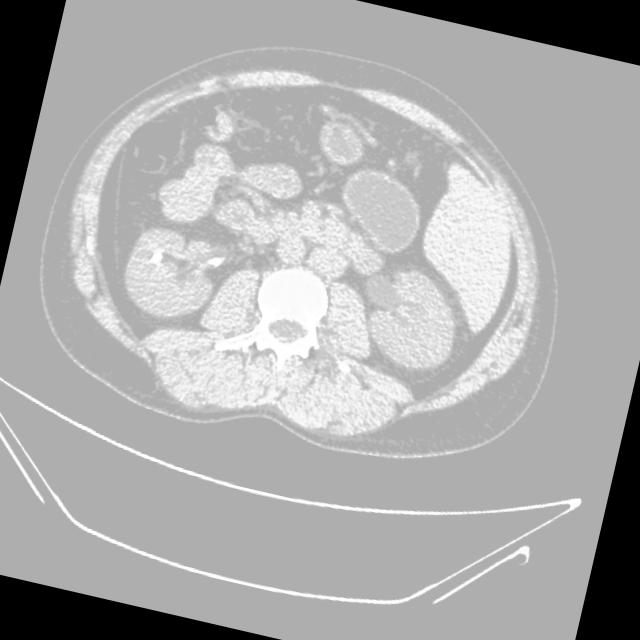STONE: (86, 73, 434, 305)
